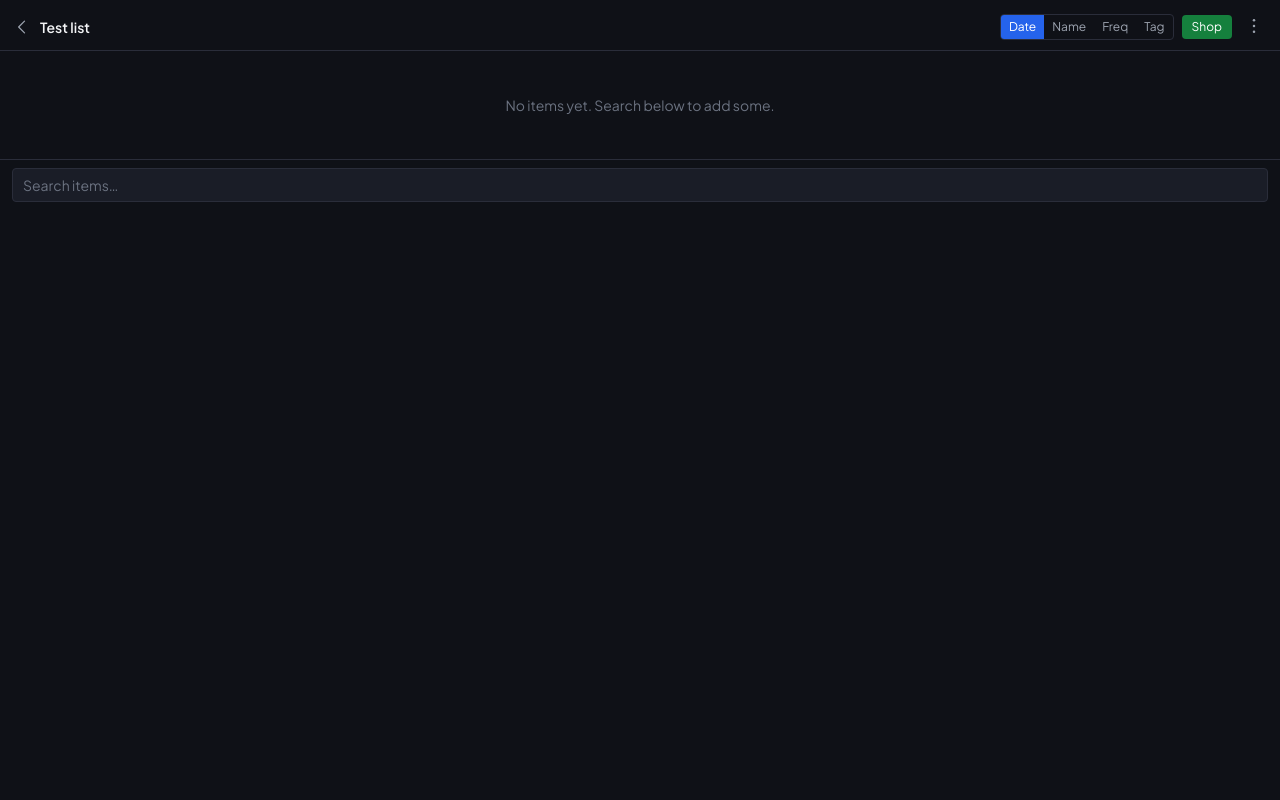
Scenario: ListScreen — rename list › saves the new name to the database
The image size is (1280, 800).
Click the button named "more options".
click(1254, 26)  # box [1240, 12, 1268, 40]
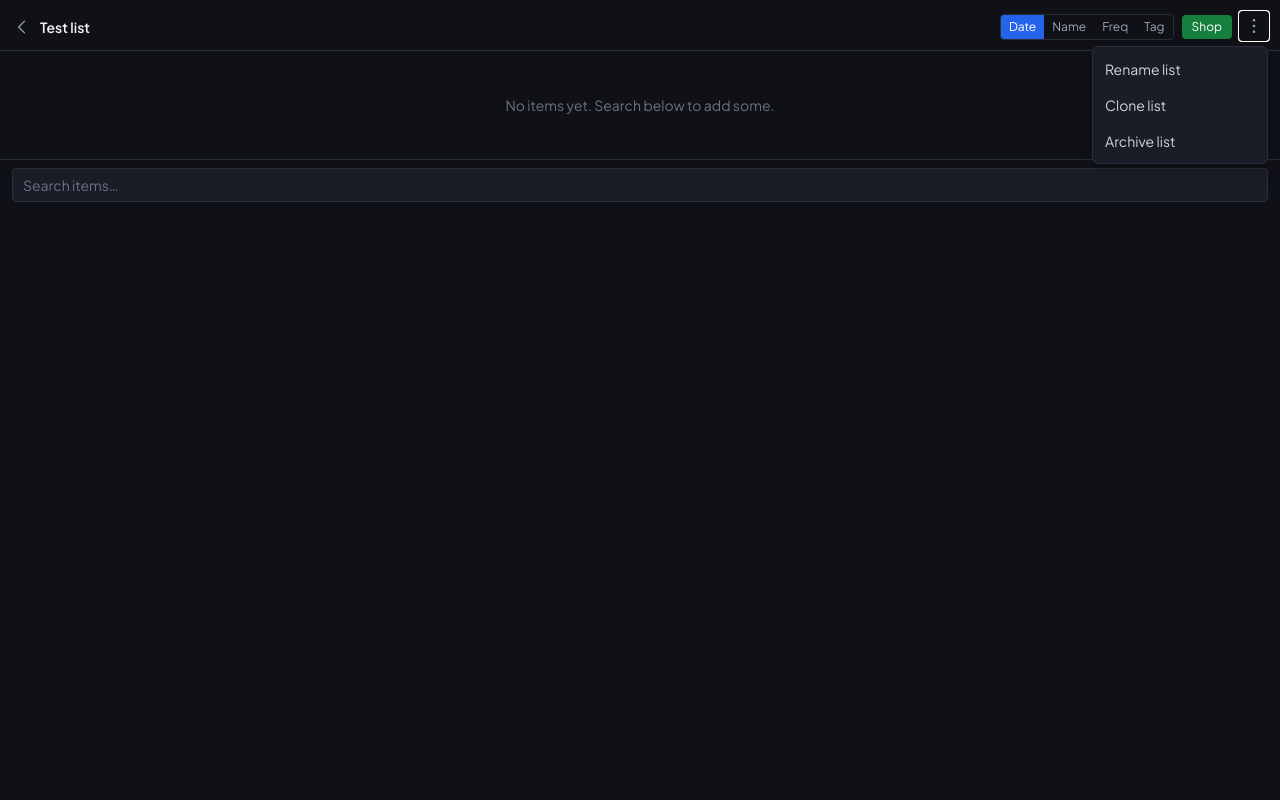
Click the button "Rename list".
click(1180, 69)  # box [1093, 51, 1267, 87]
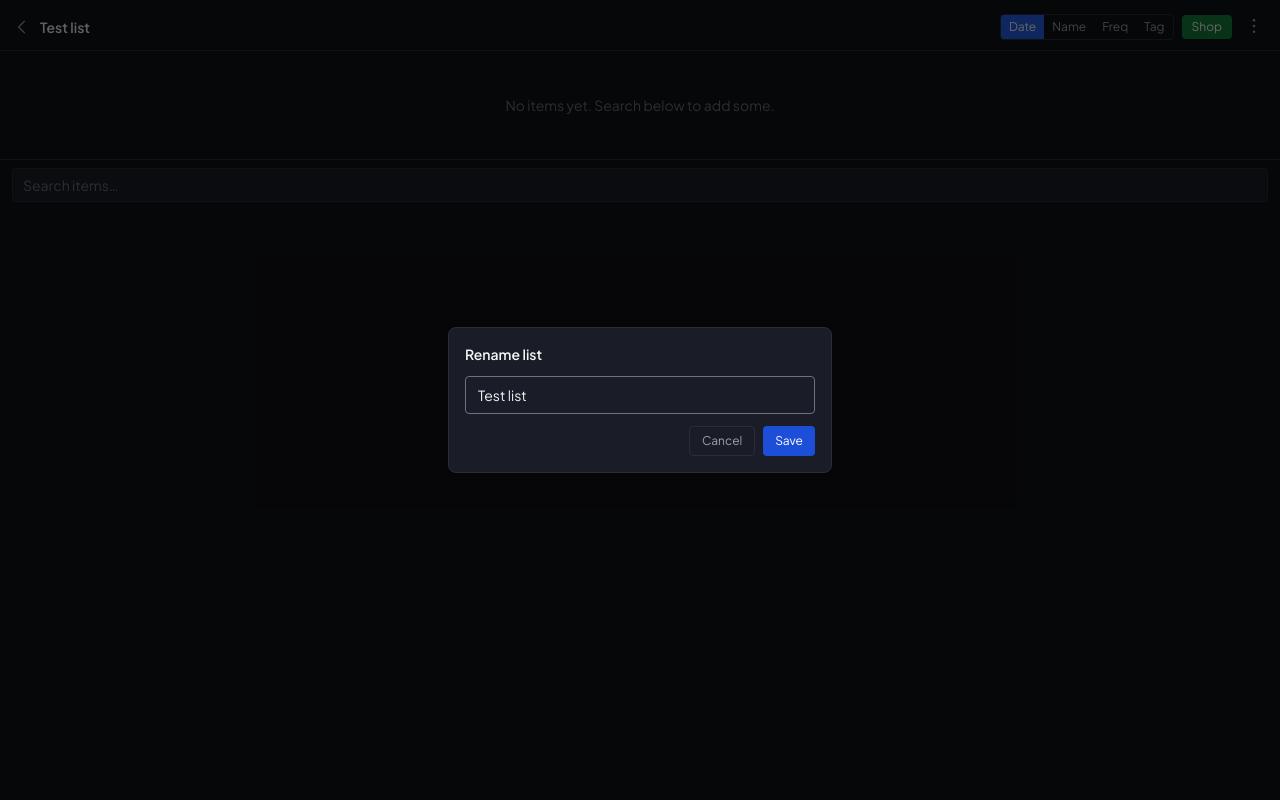
Replace the text in the field named "list name" with "Weekly shopping" at (640, 395), box [465, 376, 815, 414]
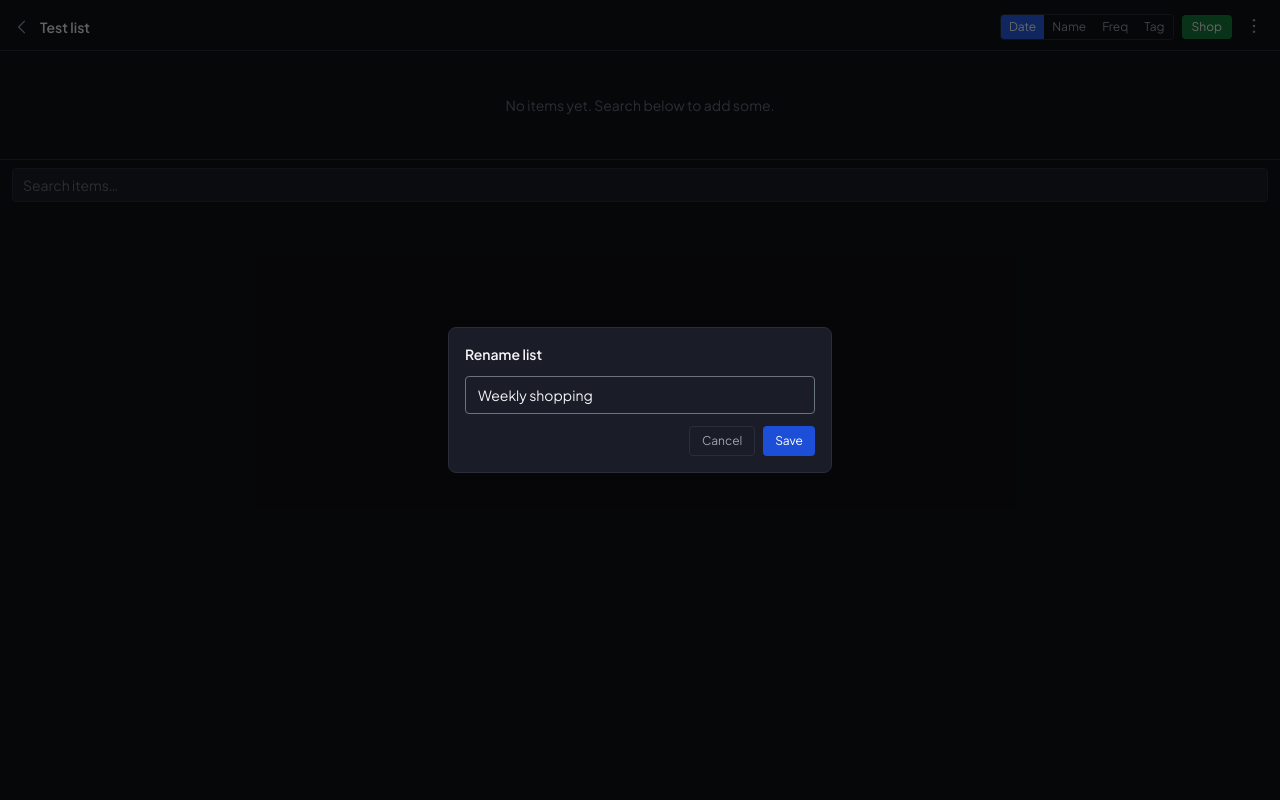
Click the button "Save".
click(789, 441)  # box [763, 426, 815, 456]
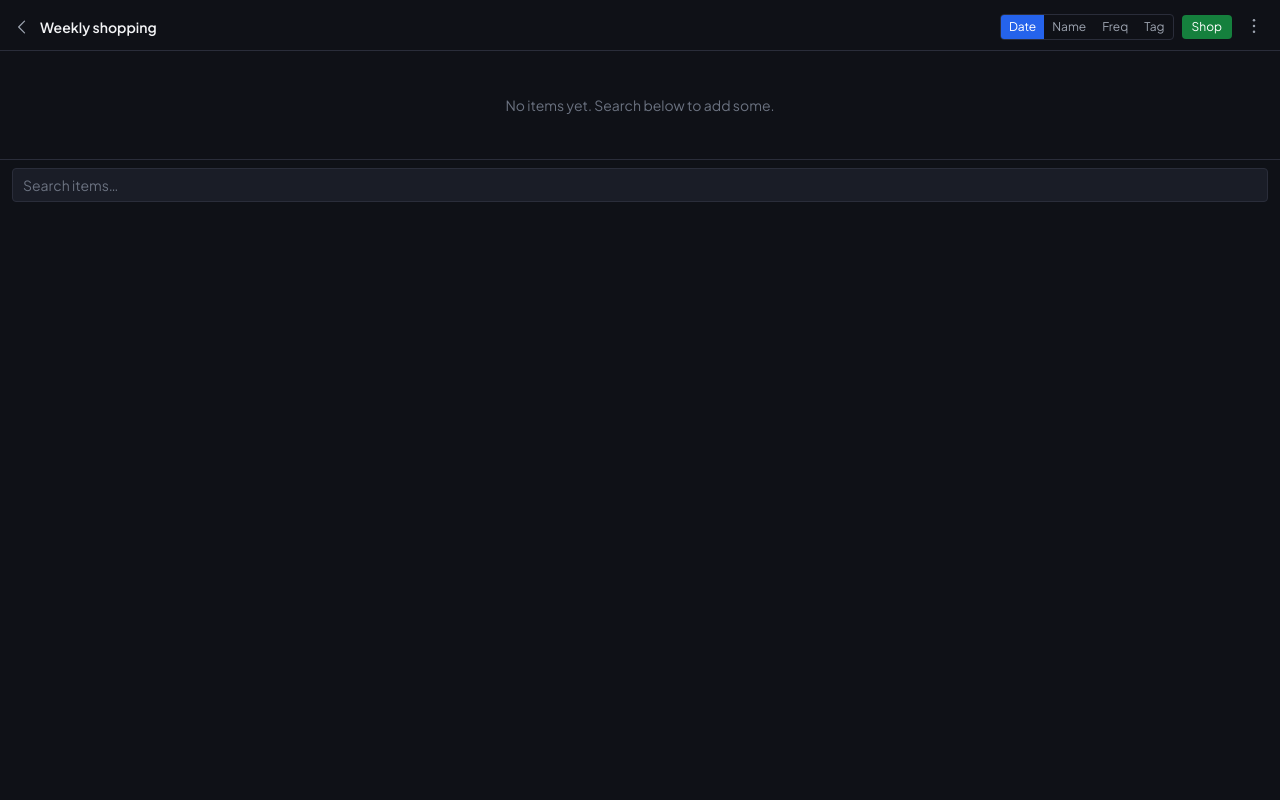
Result: the heading "Weekly shopping" is shown at [40, 18, 157, 36]
